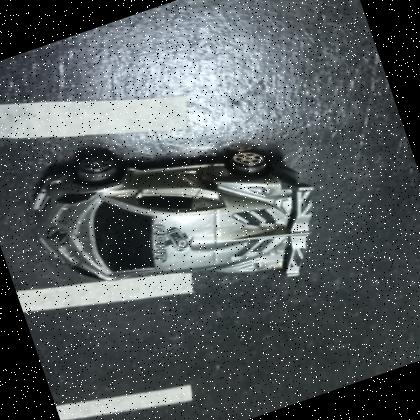Car: (12, 86, 340, 354)
